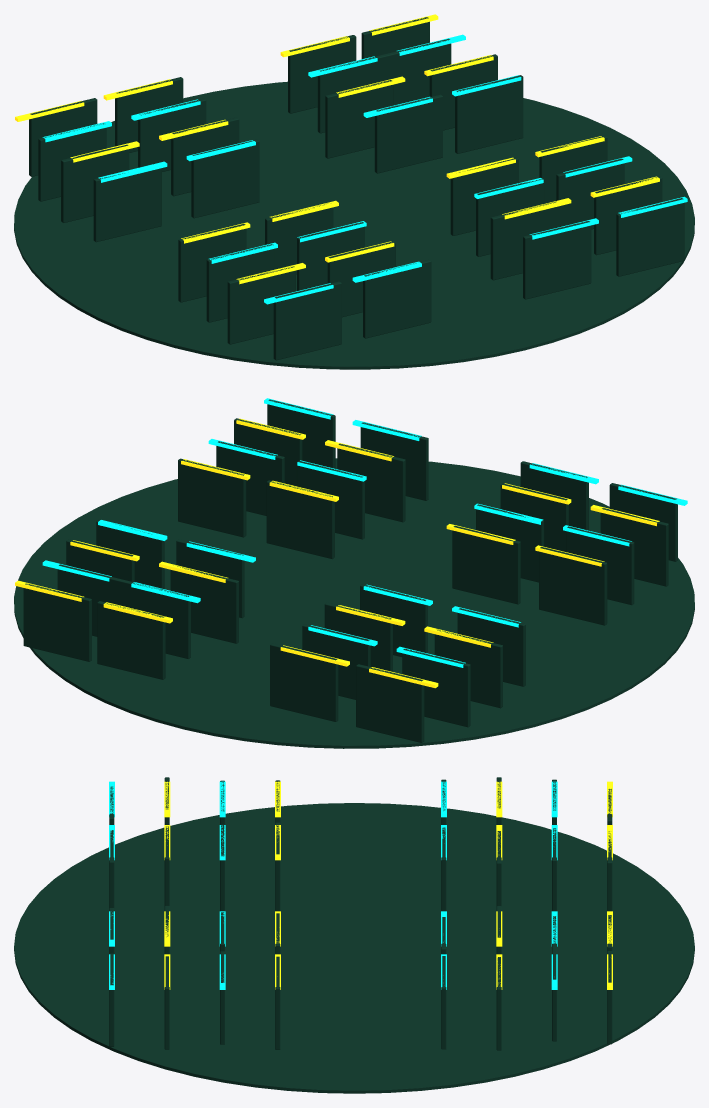
The model's file is backdrop_04.glb.
3 views of the same model, one above another, from view 1: azimuth 30°, elevation 25°; view 2: azimuth 150°, elevation 25°; view 3: azimuth 270°, elevation 25° (orthographic).
Parts seen in each view (by area): view 1: backdrop_04; view 2: backdrop_04; view 3: backdrop_04.
Boxes of the visible parts, box(x1,y1,x2,y2) form: backdrop_04: box(14, 14, 694, 369); backdrop_04: box(14, 398, 694, 748); backdrop_04: box(14, 777, 694, 1093).
Bounding box in the file's own units: 80 × 8.5 × 80.
